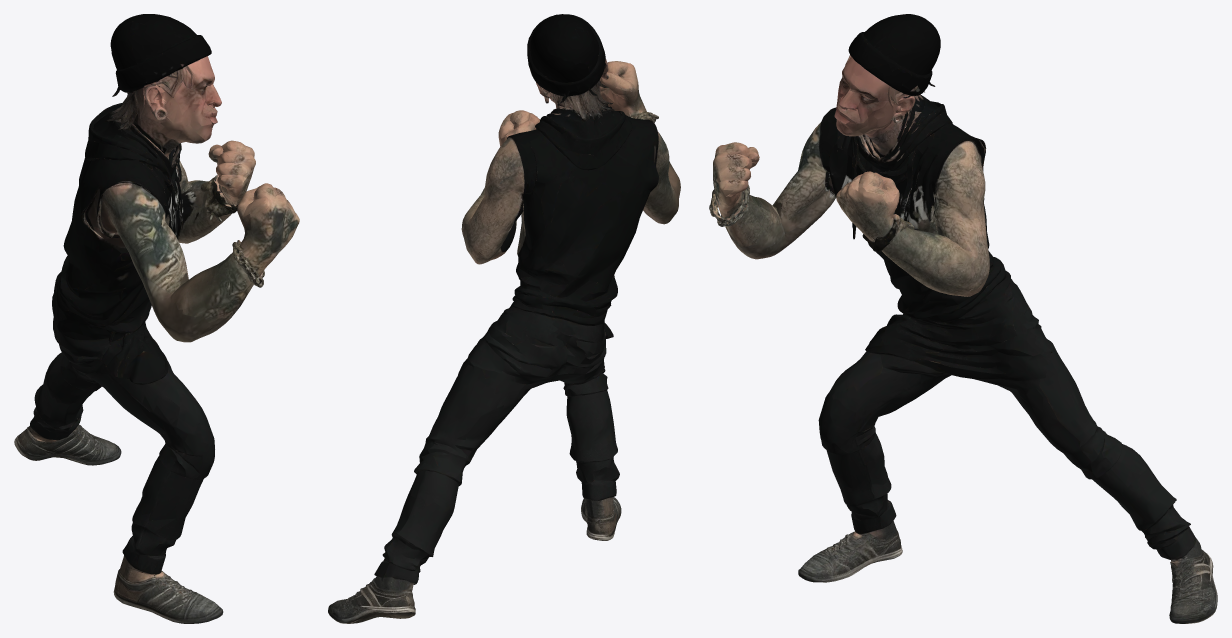
The model's file is spencer.glb.
3 renders of one model, left to right at view 1: azimuth 30°, elevation 25°; view 2: azimuth 150°, elevation 25°; view 3: azimuth 270°, elevation 25°, orthographic. The views are drawn at different scales.
Visible parts, largest first — view 1: output_unwrapped; view 2: output_unwrapped; view 3: output_unwrapped.
Part boxes in pixels (x1,y1,x2,y2): output_unwrapped: [14, 14, 299, 623]; output_unwrapped: [328, 14, 680, 623]; output_unwrapped: [709, 14, 1217, 623].
Size of the model in its own units: 0.696 by 1.9 by 1.57.
1 material, 1 textured.
